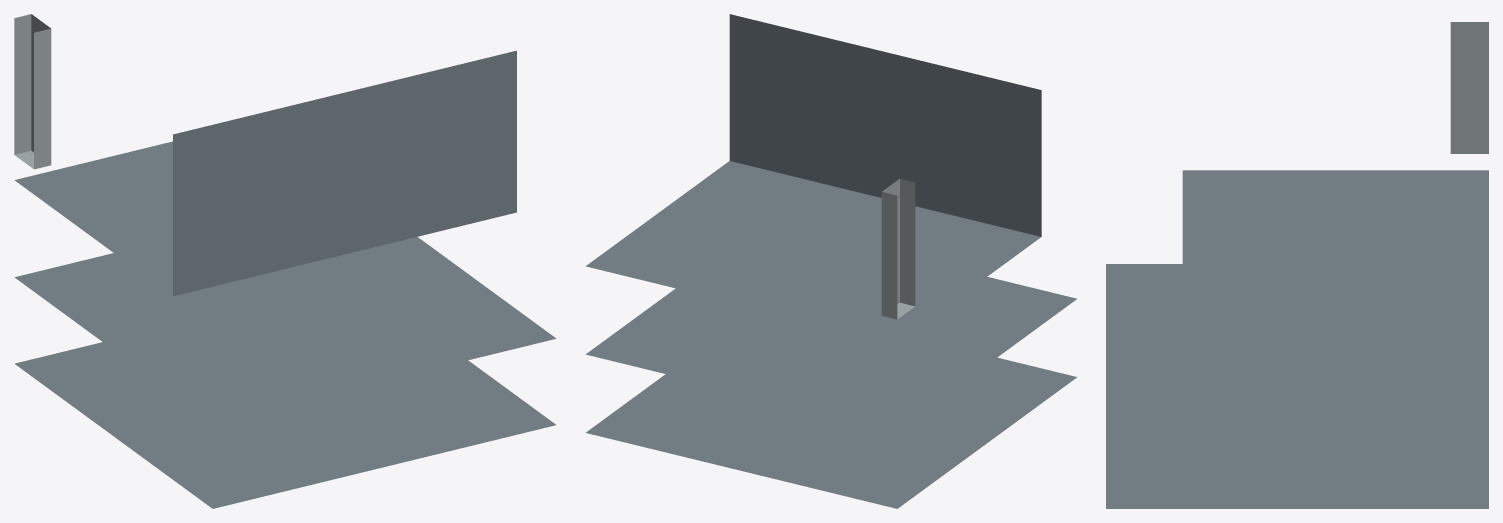
File: cell_36.obj
3 renders of one model, left to right at view 1: azimuth 30°, elevation 25°; view 2: azimuth 150°, elevation 25°; view 3: azimuth 270°, elevation 25°, orthographic. The views are drawn at different scales.
Size of the model in its own units: 1 by 0.96 by 1.
